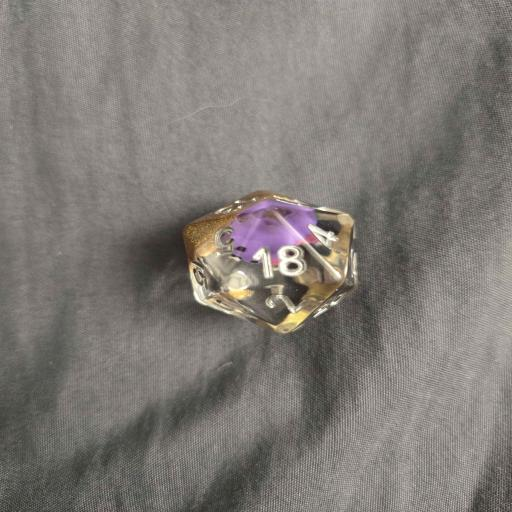twenty sided dice: (182, 188, 360, 333)
